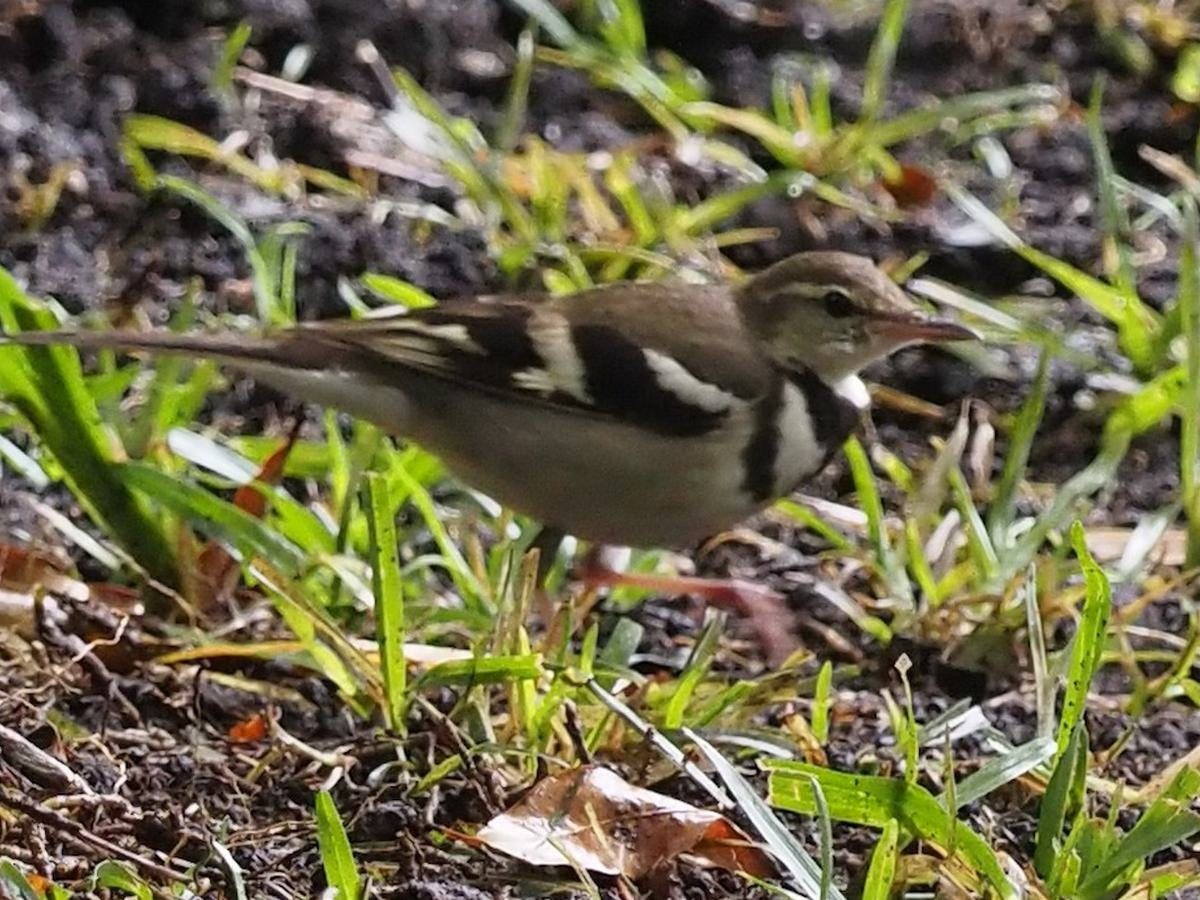wagtail: (138, 233, 986, 577)
